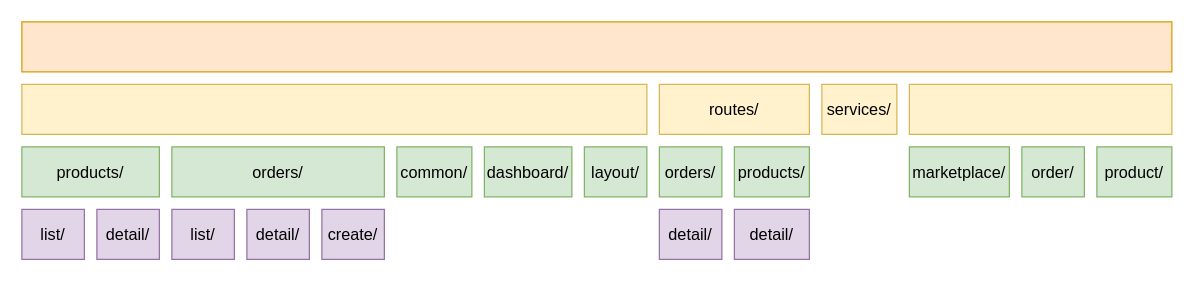
This 1194x281 diagram has some shape labels left out. Here are the shapes that lost their labels. From the top down, the centre of each, then its label:
[596,46]: src/
[334,108]: components/
[1040,108]: types/
